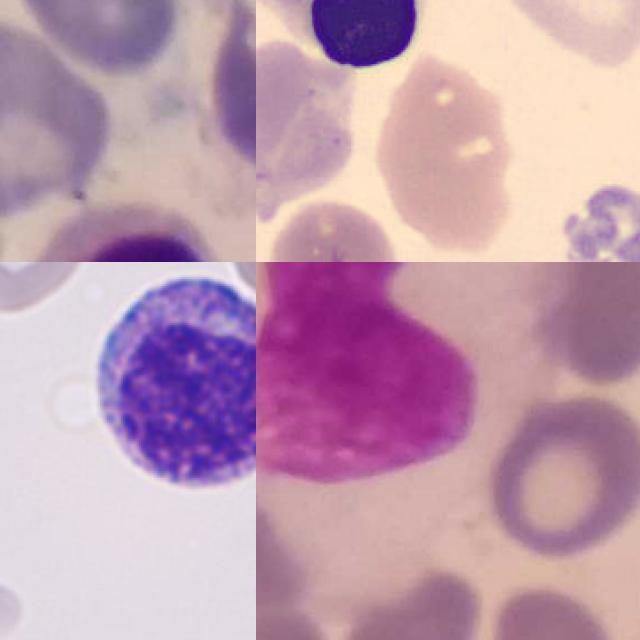Lymphocyte: (80, 265, 256, 503), (256, 0, 444, 72), (18, 199, 225, 262)
Monocyte: (256, 262, 487, 483)
RBC: (356, 48, 536, 262), (256, 34, 364, 221), (475, 0, 640, 82), (262, 193, 399, 262)
